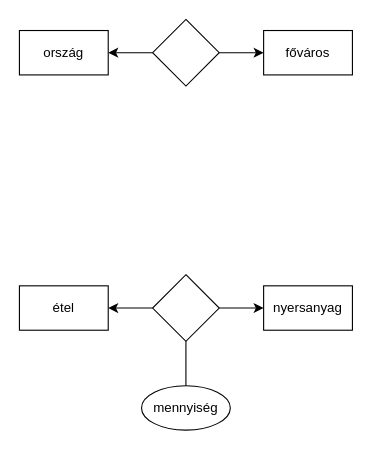
Image size: 372x450. Some labels were removed from this diagram. The centre of each missing label's shape, as x and y in pixels:
benne: pixel 185 307
O_F: pixel 185 52
